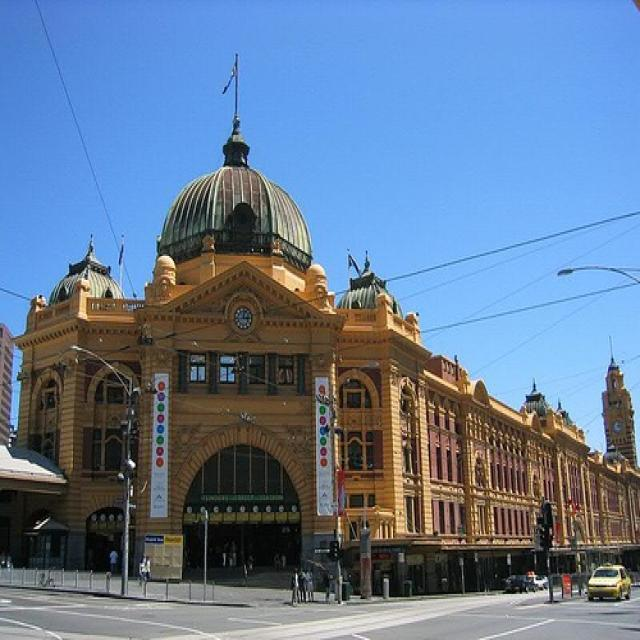car: (585, 566, 631, 600)
